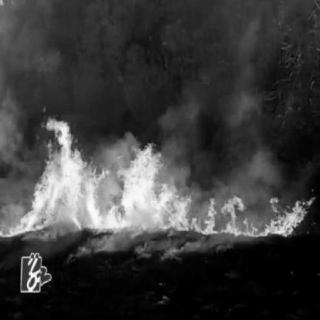Smoke: (29, 9, 172, 127), (256, 22, 317, 186)
